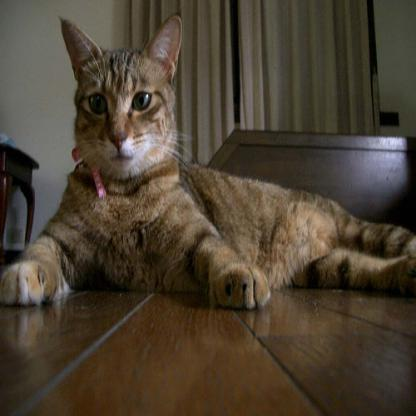cat: (35, 16, 411, 344)
